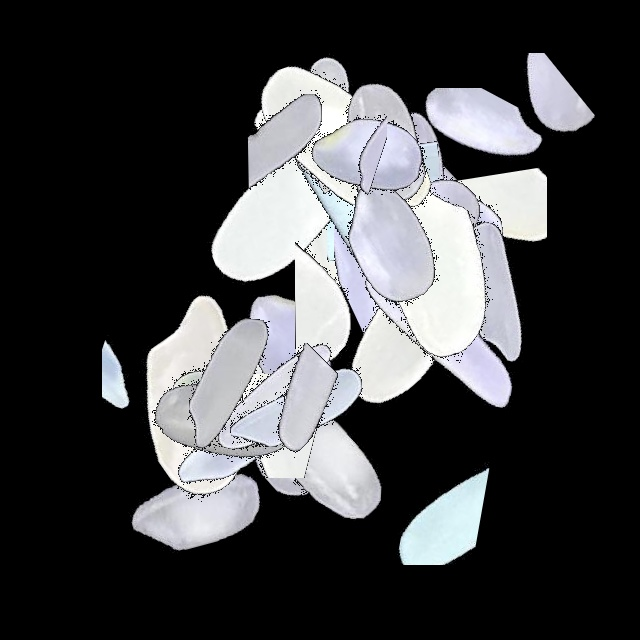Broken: (118, 323, 368, 478), (337, 88, 587, 238), (152, 343, 402, 489), (334, 129, 475, 379), (193, 72, 443, 213), (412, 120, 547, 370), (378, 118, 500, 368), (295, 443, 545, 565), (306, 49, 427, 299), (390, 53, 640, 173), (142, 372, 392, 482), (331, 43, 439, 293), (307, 31, 414, 281), (285, 3, 387, 253), (76, 320, 326, 420), (124, 374, 374, 473), (299, 36, 397, 286), (295, 168, 391, 418), (321, 39, 413, 289), (278, 0, 368, 250), (102, 231, 186, 481), (130, 325, 380, 405), (327, 94, 403, 344)
Full: (183, 69, 433, 319), (167, 300, 417, 550), (226, 18, 476, 268), (70, 386, 320, 636), (286, 80, 536, 330), (163, 74, 413, 324), (305, 88, 555, 338), (285, 46, 535, 296), (73, 274, 323, 524), (200, 341, 450, 591), (368, 166, 618, 416), (292, 192, 542, 442), (314, 212, 564, 462), (163, 218, 413, 468), (131, 304, 381, 554), (303, 103, 553, 353), (101, 296, 351, 546), (232, 90, 482, 340), (150, 270, 400, 520), (103, 257, 353, 507), (170, 285, 420, 535), (299, 140, 549, 390), (201, 0, 451, 250), (220, 14, 470, 264), (256, 26, 506, 276), (266, 119, 516, 369), (243, 31, 493, 281)
